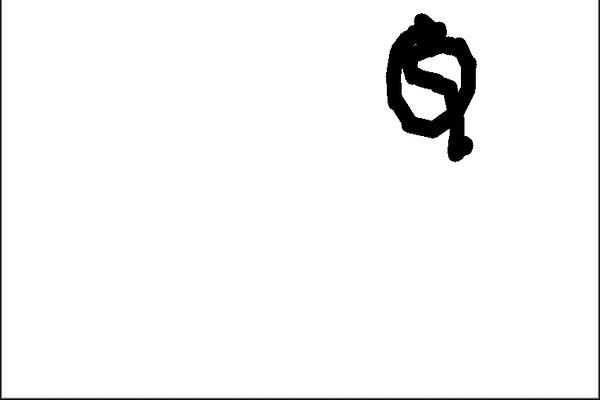Q: (378, 6, 484, 175)
